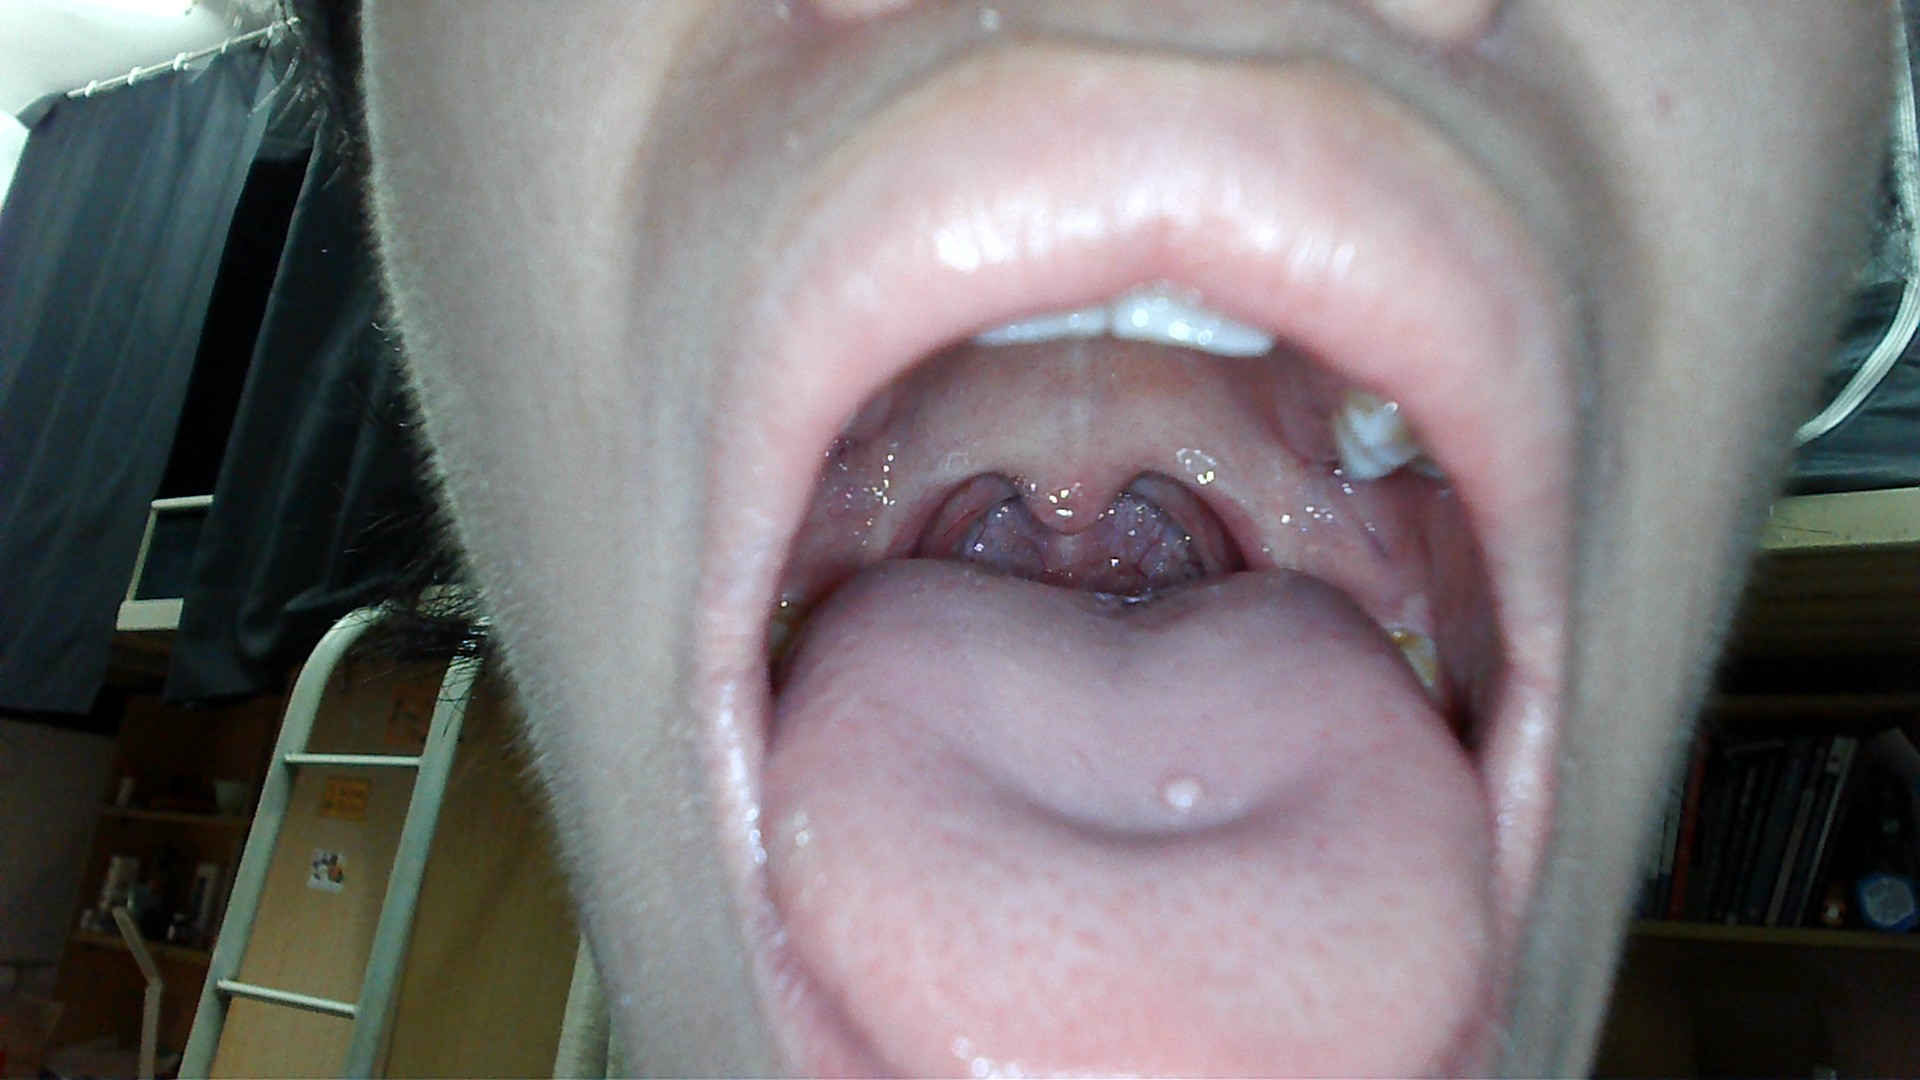throat: (1174, 440, 1266, 572), (866, 452, 982, 556)
